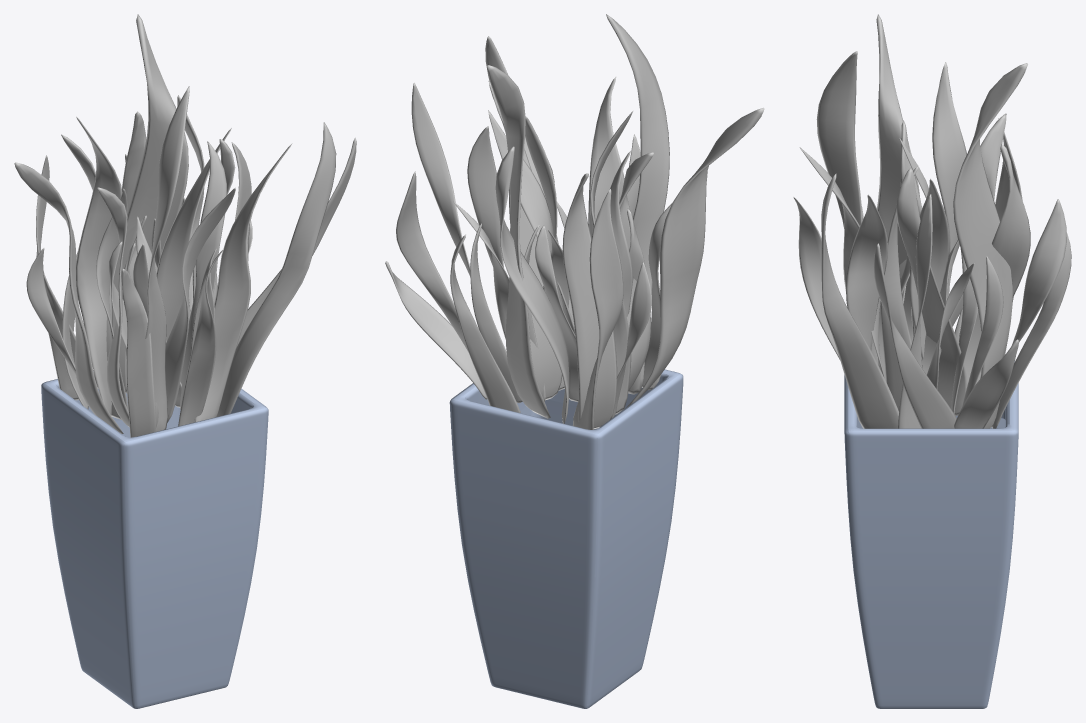
Rendered from plant.fbx.
The picture shows the model from 3 angles, left to right: view 1: azimuth 30°, elevation 25°; view 2: azimuth 150°, elevation 25°; view 3: azimuth 270°, elevation 25°; orthographic projection. The views are drawn at different scales.
Visible parts, largest first — view 1: (null); view 2: (null); view 3: (null).
Part boxes in pixels (bbox=[...]): (null): bbox=[14, 14, 356, 708]; (null): bbox=[385, 14, 764, 708]; (null): bbox=[793, 14, 1071, 708].
Bounding box in the file's own units: 83984 × 146291 × 57775.
